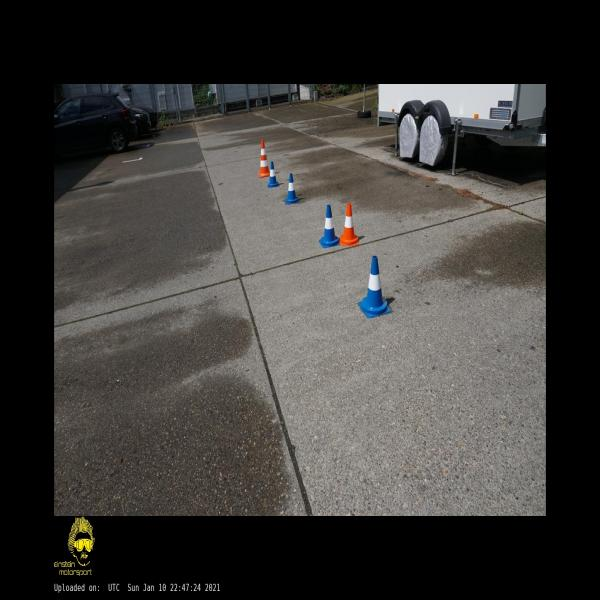blue_cone: (358, 256, 391, 318), (318, 204, 340, 248), (285, 173, 299, 204), (268, 162, 279, 188)
large_orange_cone: (258, 139, 270, 177)
orange_cone: (339, 203, 358, 245)
